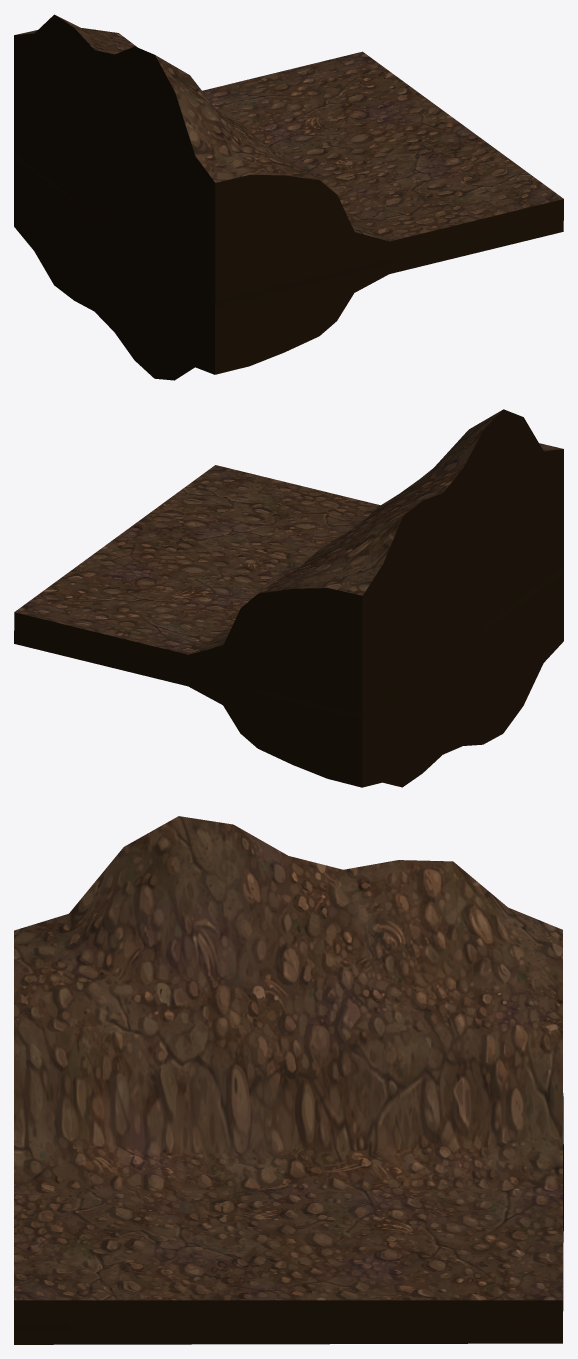
File: LevelRoads.fbx
3 renders of one model, top to bottom at view 1: azimuth 30°, elevation 25°; view 2: azimuth 150°, elevation 25°; view 3: azimuth 270°, elevation 25°, orthographic. The views are drawn at different scales.
Parts seen in each view (by area): view 1: pPlane3; view 2: pPlane3; view 3: pPlane3.
Boxes of the visible parts, x1=… form: pPlane3: x1=14, y1=14, x2=563, y2=380; pPlane3: x1=14, y1=409, x2=563, y2=787; pPlane3: x1=14, y1=816, x2=563, y2=1344.
Size of the model in its own units: 27.28 by 24.22 by 27.3.
